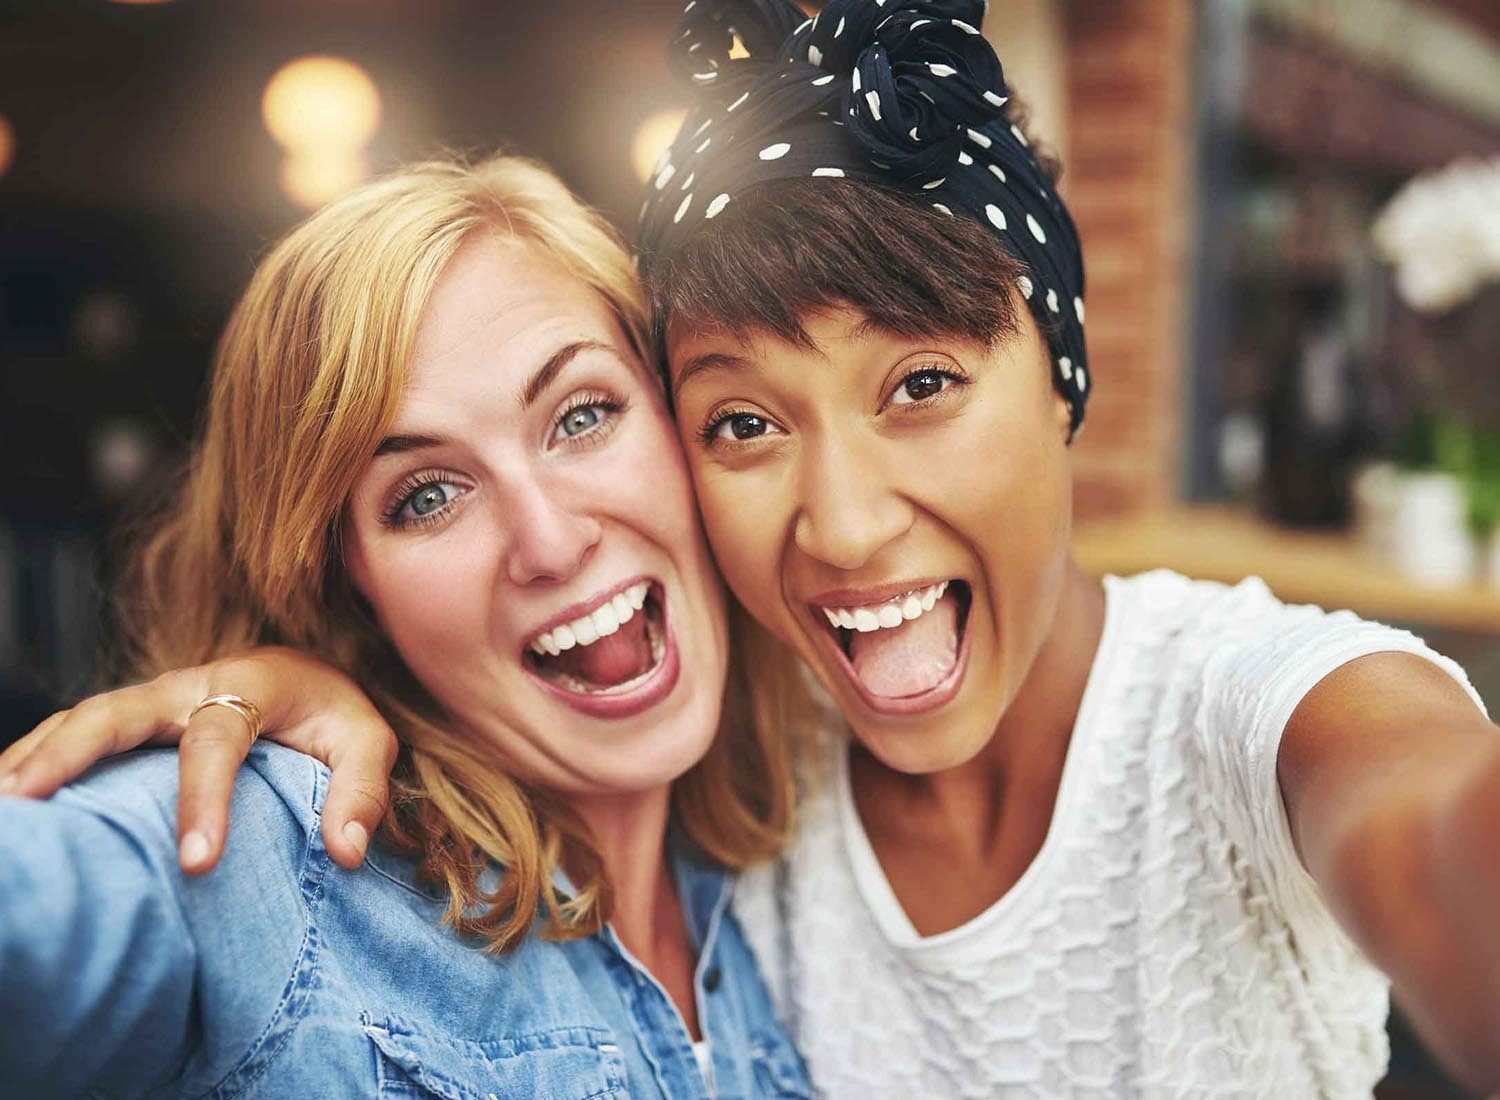without_mask: (678, 307, 1015, 721), (364, 348, 698, 740)
